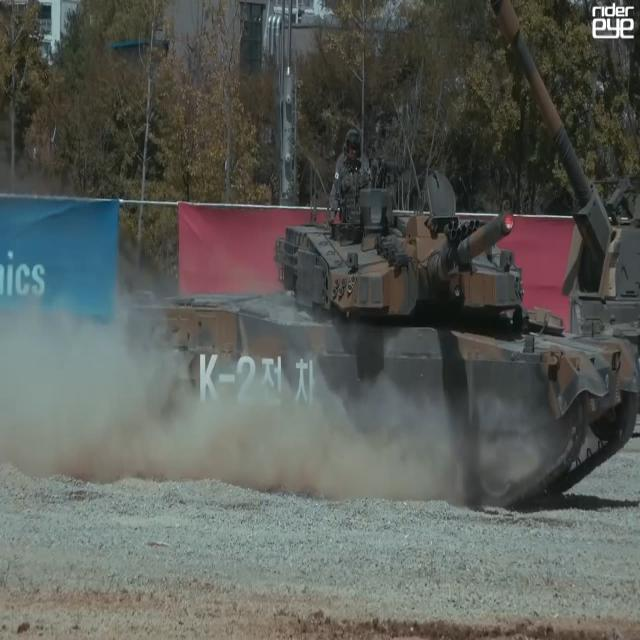korea tank: (120, 126, 640, 502)
